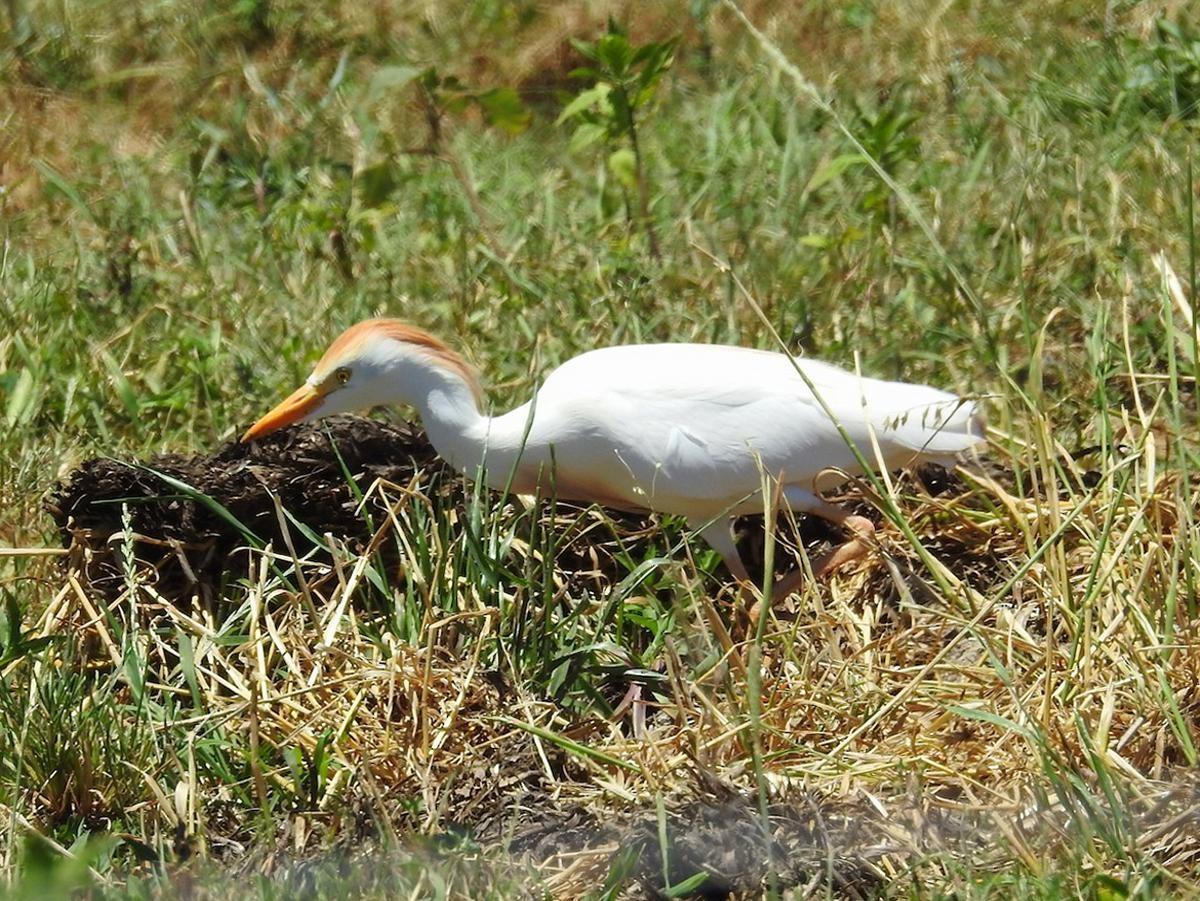egret: (236, 304, 1065, 600)
